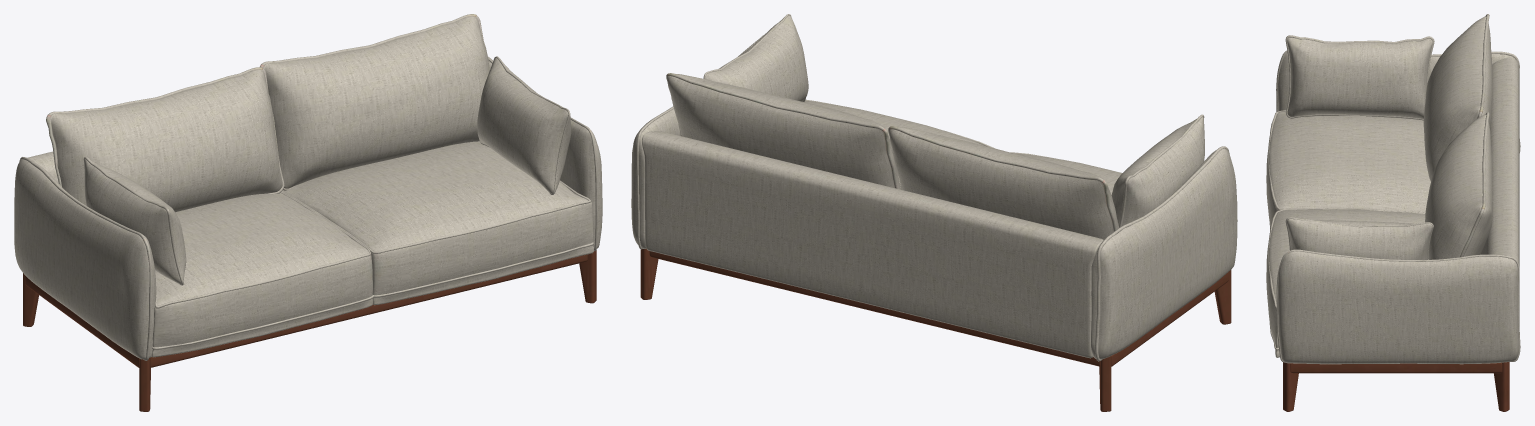
Rendered from abo-B07QHYD995.glb.
The picture shows the model from 3 angles, left to right: view 1: azimuth 30°, elevation 25°; view 2: azimuth 150°, elevation 25°; view 3: azimuth 270°, elevation 25°; orthographic projection. The views are drawn at different scales.
Bounding box in the file's own units: 1.99 × 0.86 × 0.991.
1 material, 1 textured.
